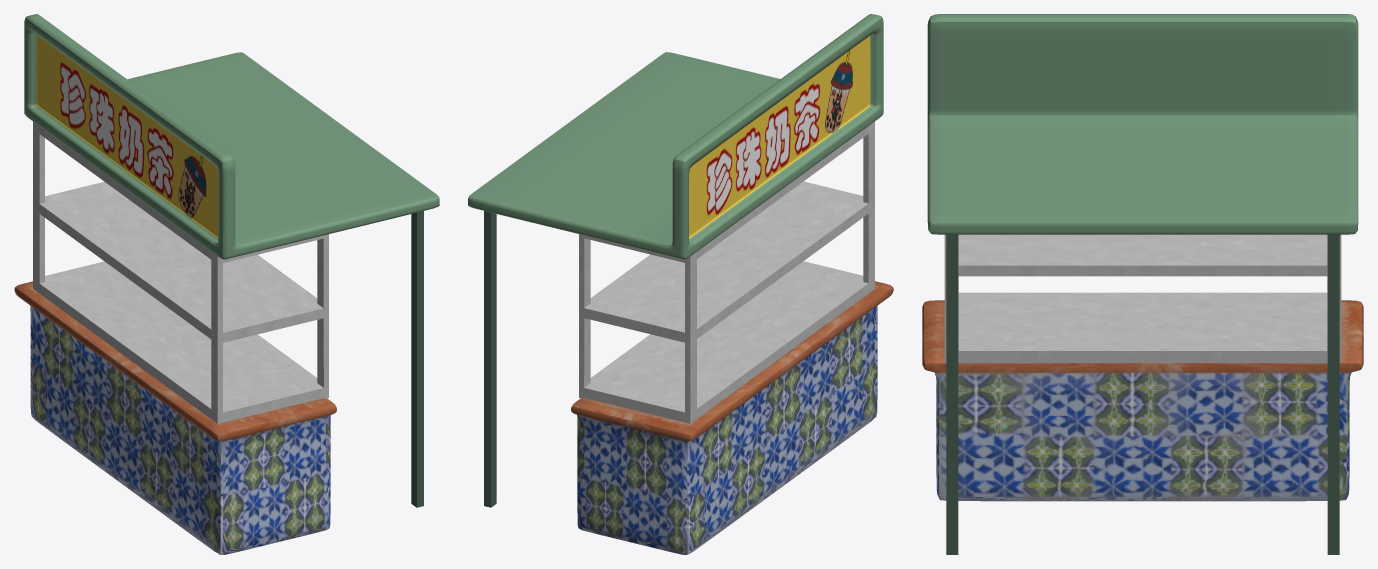
Rendered from booth 2-1.fbx.
3 renders of one model, left to right at view 1: azimuth 30°, elevation 25°; view 2: azimuth 150°, elevation 25°; view 3: azimuth 270°, elevation 25°, orthographic. The views are drawn at different scales.
Visible parts, largest first — view 1: Cube.002, Cube, Cube.001, Cube.004; view 2: Cube.002, Cube, Cube.001, Cube.004; view 3: Cube.002, Cube.001, Cube, Cube.004.
Boxes of the visible parts, bbox=[...] form: Cube.002: bbox=[24, 14, 439, 259]; Cube: bbox=[33, 121, 328, 423]; Cube.001: bbox=[14, 281, 336, 554]; Cube.004: bbox=[411, 211, 423, 507]; Cube.002: bbox=[468, 14, 883, 259]; Cube: bbox=[579, 121, 874, 423]; Cube.001: bbox=[571, 281, 893, 554]; Cube.004: bbox=[484, 211, 496, 507]; Cube.002: bbox=[927, 14, 1358, 234]; Cube.001: bbox=[922, 300, 1363, 501]; Cube: bbox=[944, 234, 1341, 362]; Cube.004: bbox=[946, 234, 1339, 554].
Bounding box in the file's own units: 885 × 1502 × 1389.
Materials: 1 (1 with a texture image).
